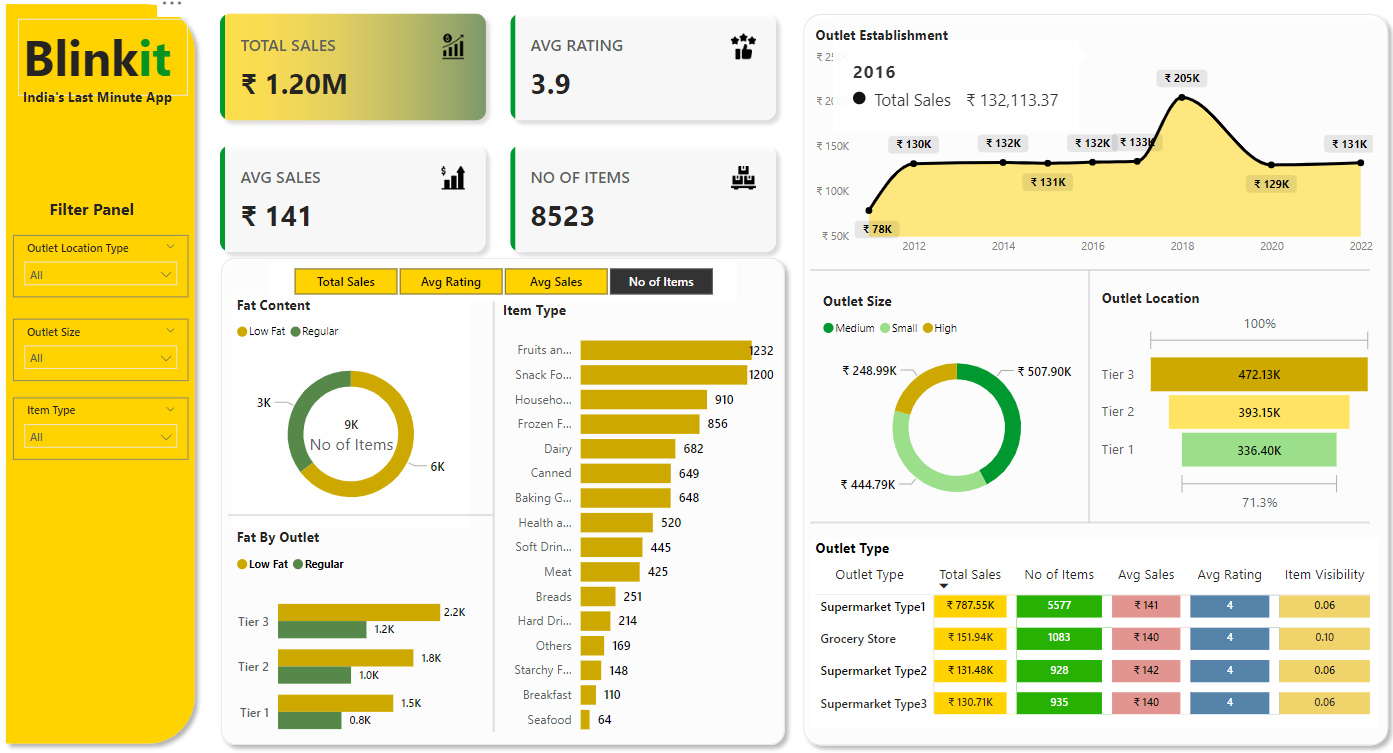

The dashboard page shown, as its layout file describes it:
{"tool":"powerbi","page":{"name":"Page 1","canvas":[1400,800],"ordinal":0},"visuals":[{"type":"shape","box":[13.3,25,205,750],"z":0},{"type":"textbox","box":[35,48.3,168.3,76.7],"z":1000},{"type":"textbox","box":[35,111.7,183.3,28.3],"z":2000},{"type":"cardVisual","fields":{"Data":["BlinkIT Grocery Data.Total Sales","BlinkIT Grocery Data.Avg Rating","BlinkIT Grocery Data.Avg Sales","BlinkIT Grocery Data.No of Items"]},"box":[218,26,584,270],"z":3000},{"type":"shape","box":[226,276,576,500],"z":4000},{"type":"donutChart","title":"Fat Content","fields":{"Y":["BlinkIT Grocery Data.No of Items"],"Category":["BlinkIT Grocery Data.Item Fat Content"]},"box":[246,322,236,230],"z":5000},{"type":"slicer","fields":{"Values":["Metrics.Metrics"]},"box":[282,288,464,40],"z":6000},{"type":"cardVisual","fields":{"Data":["BlinkIT Grocery Data.No of Items"]},"box":[300,423.3,128.3,75],"z":7000},{"type":"clusteredBarChart","title":"Fat By Outlet","fields":{"Y":["BlinkIT Grocery Data.No of Items"],"Category":["BlinkIT Grocery Data.Outlet Location Type"],"Series":["BlinkIT Grocery Data.Item Fat Content"]},"box":[246,552,236,224],"z":8000},{"type":"barChart","title":"Item Type","fields":{"Y":["BlinkIT Grocery Data.No of Items"],"Category":["BlinkIT Grocery Data.Item Type"]},"box":[510,326,278,440],"z":9000},{"type":"shape","box":[242,508,262,62],"z":10000},{"type":"shape","box":[482,328,46,426],"z":11000},{"type":"shape","box":[803.3,35,596.7,741.7],"z":12000},{"type":"lineChart","title":"Outlet Establishment","fields":{"Y":["BlinkIT Grocery Data.Total Sales"],"Category":["BlinkIT Grocery Data.Outlet Establishment Year"]},"box":[818.3,55,561.7,236.7],"z":13000},{"type":"donutChart","title":"Outlet Size","fields":{"Y":["BlinkIT Grocery Data.Total Sales"],"Category":["BlinkIT Grocery Data.Outlet Size"]},"box":[826.7,317.5,275,225],"z":14000},{"type":"funnel","title":"Outlet Location","fields":{"Y":["Sum(BlinkIT Grocery Data.Sales)"],"Category":["BlinkIT Grocery Data.Outlet Location Type"]},"box":[1101.7,315.8,278.3,226.7],"z":15000},{"type":"pivotTable","title":"Outlet Type","fields":{"Values":["BlinkIT Grocery Data.Total Sales","BlinkIT Grocery Data.No of Items","BlinkIT Grocery Data.Avg Sales","BlinkIT Grocery Data.Avg Rating","Avg(BlinkIT Grocery Data.Item Visibility)"],"Rows":["BlinkIT Grocery Data.Outlet Type"]},"box":[818.3,563.3,561.7,188.3],"z":16000},{"type":"shape","box":[818.3,258.3,553.3,76.7],"z":17000},{"type":"shape","box":[1071.7,296.7,46.7,250],"z":18000},{"type":"shape","box":[818.3,508.3,553.3,76.7],"z":19000},{"type":"slicer","fields":{"Values":["BlinkIT Grocery Data.Outlet Location Type"]},"box":[30,261.7,173.3,61.7],"z":19001},{"type":"slicer","fields":{"Values":["BlinkIT Grocery Data.Outlet Size"]},"box":[30,345,173.3,61.7],"z":19002},{"type":"slicer","fields":{"Values":["BlinkIT Grocery Data.Item Type"]},"box":[30,423.3,173.3,61.7],"z":19003},{"type":"textbox","box":[60,220,108.3,38.3],"z":19004}]}

Visuals, with their boxes on the page's 1400x800 design canvas (x1, y1, x2, y2). These are canvas units, not pixel positions in the 1393x753 screenshot, which may show the page scaled, cropped or inside an application window:
shape: <box>13,25,218,775</box>
textbox: <box>35,48,203,125</box>
textbox: <box>35,112,218,140</box>
cardVisual - BlinkIT Grocery Data.Total Sales x BlinkIT Grocery Data.Avg Rating: <box>218,26,802,296</box>
shape: <box>226,276,802,776</box>
"Fat Content" donutChart: <box>246,322,482,552</box>
slicer - Metrics.Metrics: <box>282,288,746,328</box>
cardVisual - BlinkIT Grocery Data.No of Items: <box>300,423,428,498</box>
"Fat By Outlet" clusteredBarChart: <box>246,552,482,776</box>
"Item Type" barChart: <box>510,326,788,766</box>
shape: <box>242,508,504,570</box>
shape: <box>482,328,528,754</box>
shape: <box>803,35,1400,777</box>
"Outlet Establishment" lineChart: <box>818,55,1380,292</box>
"Outlet Size" donutChart: <box>827,318,1102,542</box>
"Outlet Location" funnel: <box>1102,316,1380,542</box>
"Outlet Type" pivotTable: <box>818,563,1380,752</box>
shape: <box>818,258,1372,335</box>
shape: <box>1072,297,1118,547</box>
shape: <box>818,508,1372,585</box>
slicer - BlinkIT Grocery Data.Outlet Location Type: <box>30,262,203,323</box>
slicer - BlinkIT Grocery Data.Outlet Size: <box>30,345,203,407</box>
slicer - BlinkIT Grocery Data.Item Type: <box>30,423,203,485</box>
textbox: <box>60,220,168,258</box>
